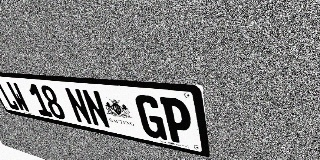1: (26, 83, 53, 117)
8: (39, 85, 67, 120)
G: (134, 94, 167, 141)
L: (0, 80, 20, 111)
N: (80, 89, 112, 129), (63, 87, 93, 126)
P: (160, 97, 194, 146)
W: (5, 81, 31, 113)
